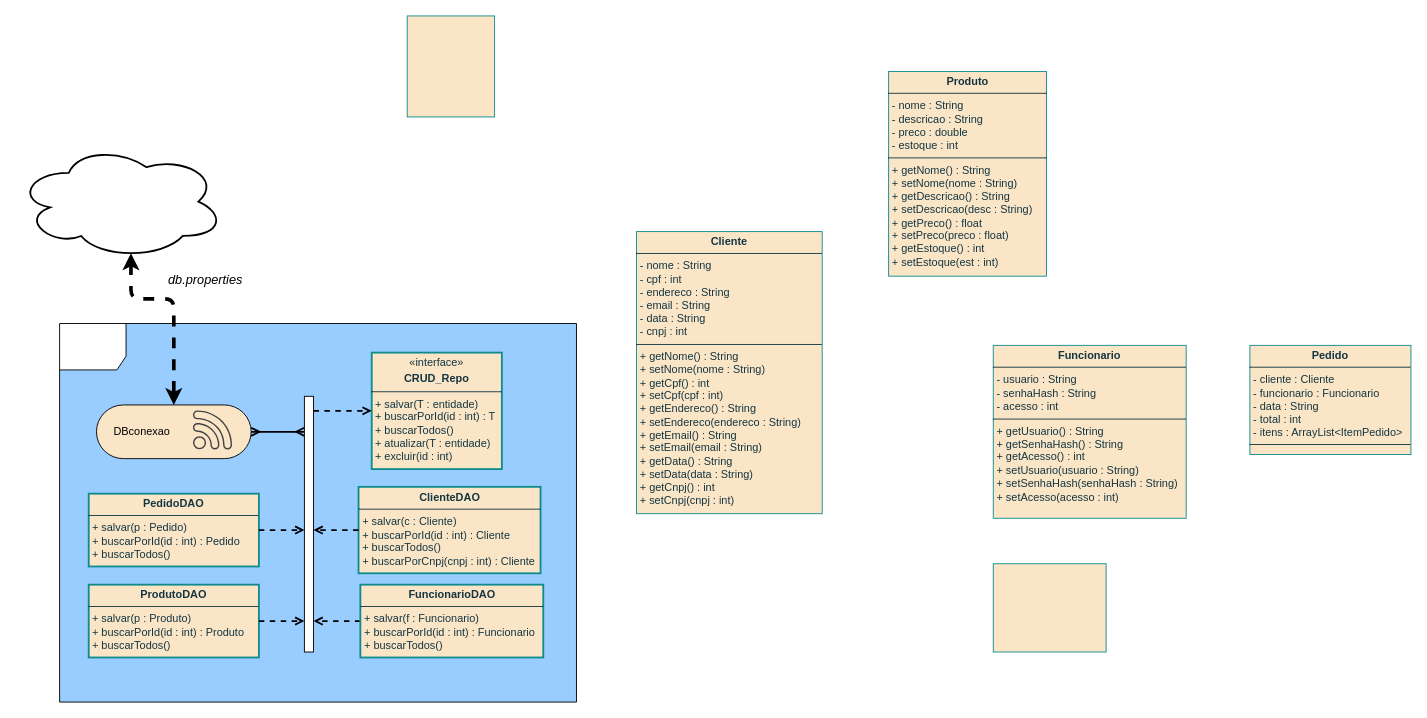
The diagram is 1427 pixels wide and 718 high, and some of its shapes have lost their labels. The shapes that lost their labels are listed below. From the top down, each one's box as (x1, y1, x2, y2) in pixels, then its label:
(406, 15, 495, 117): «abstract» Obj_Base - id : int + getId() : int + setId(id : int)
(15, 143, 225, 259): Banco de dados
(59, 323, 576, 702): SQL
(992, 563, 1106, 652): ItemPedido - quantidade : int - precoUnit : double - produto : Produto
